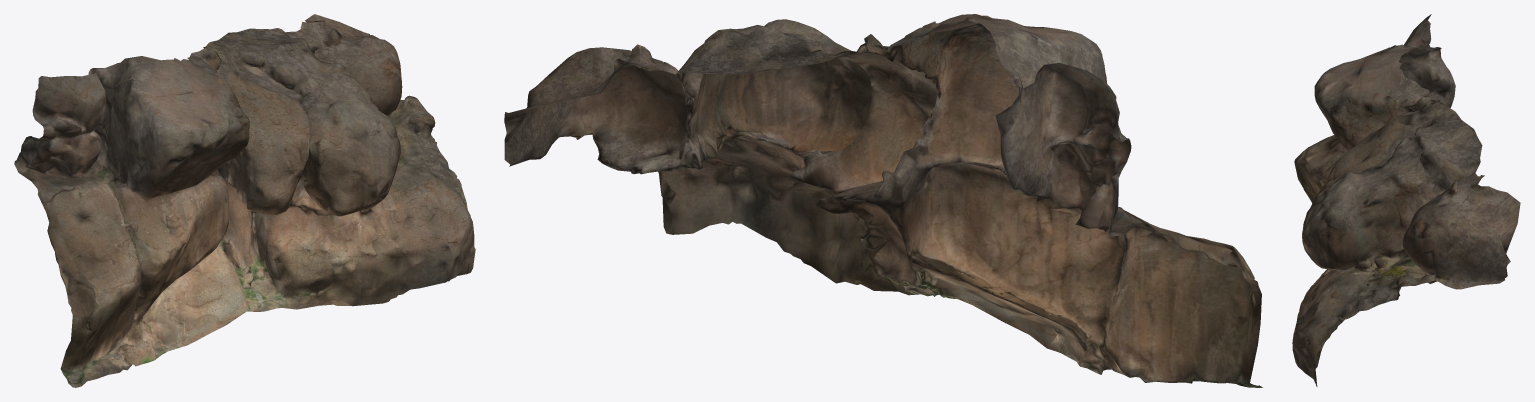
File: namaqualand_cliff_01.glb
3 views of the same model, side by side, from view 1: azimuth 30°, elevation 25°; view 2: azimuth 150°, elevation 25°; view 3: azimuth 270°, elevation 25° (orthographic). The views are drawn at different scales.
Visible parts, largest first — view 1: drone_rock_01; view 2: drone_rock_01; view 3: drone_rock_01.
Boxes of the visible parts, x1,y1,x2,y2 form: drone_rock_01: (14, 14, 475, 387); drone_rock_01: (504, 14, 1262, 387); drone_rock_01: (1292, 14, 1520, 386).
Size of the model in its own units: 8.27 by 4.96 by 4.38.
1 material, 1 textured.
